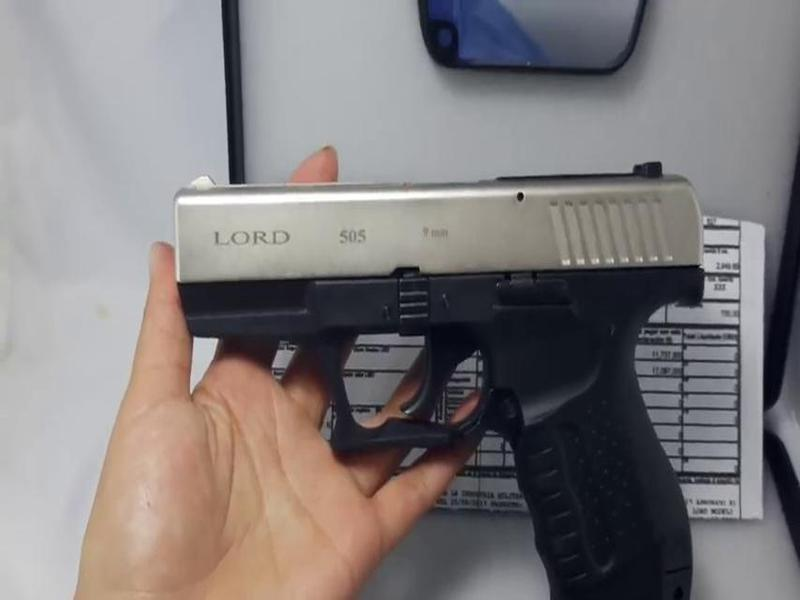Pistola: (151, 167, 736, 600)
